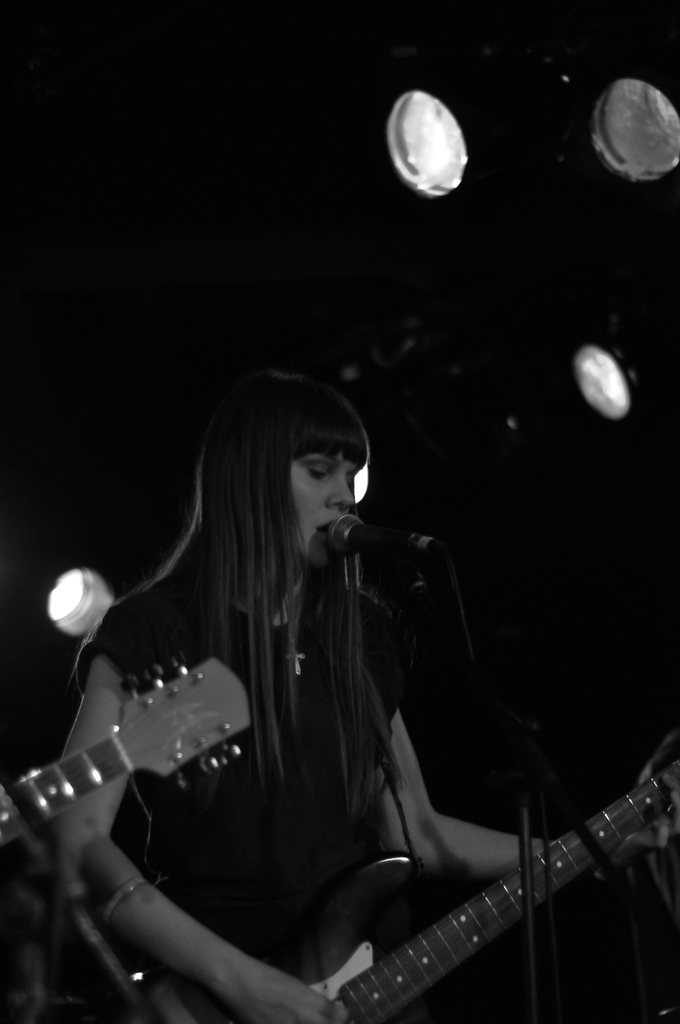Human_hand: (622, 729, 679, 855), (248, 970, 341, 1023)
